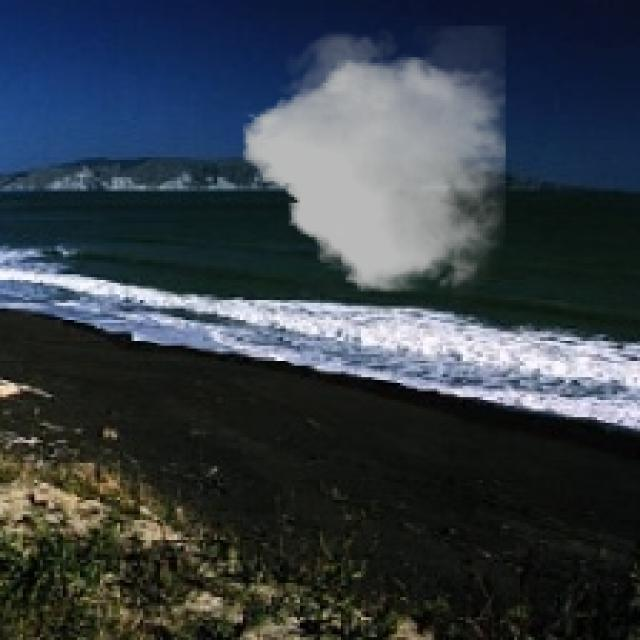Smoke: (243, 25, 506, 298)
